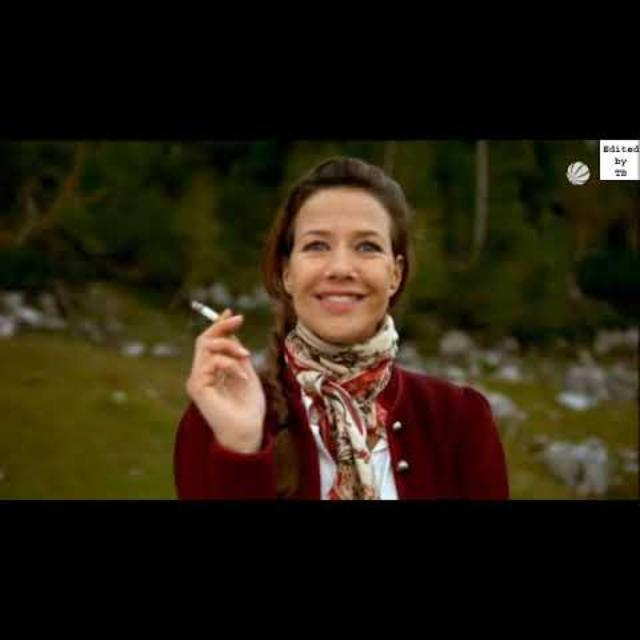rokok: (182, 295, 234, 325)
